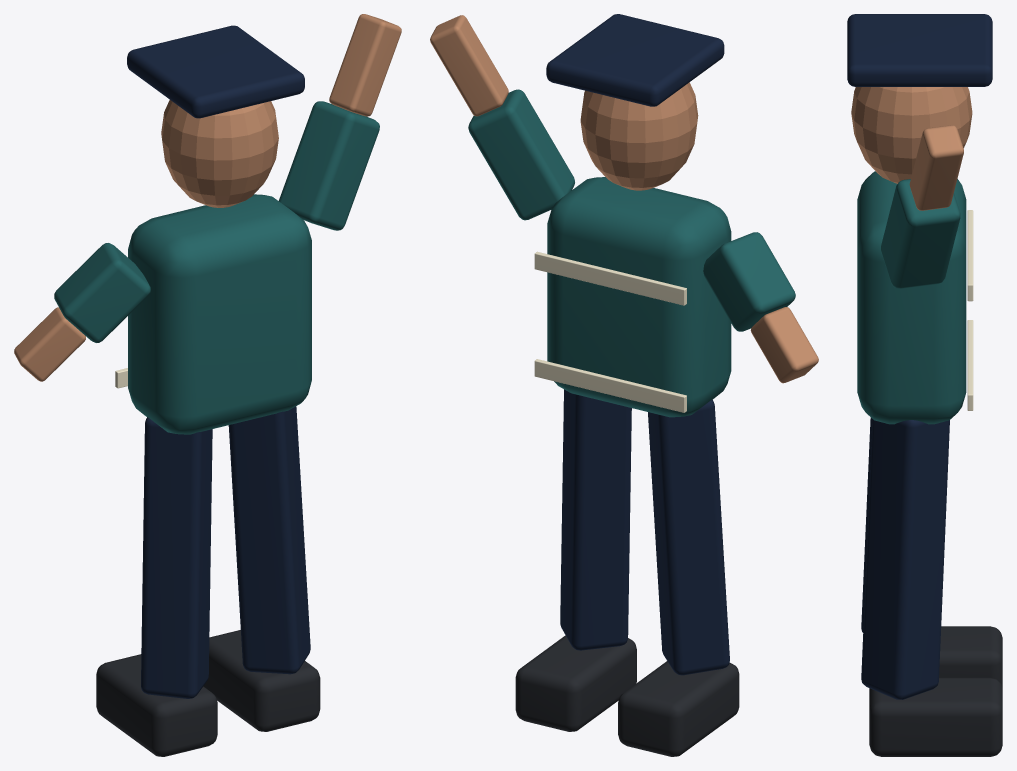
File: spectator.glb
3 views of the same model, side by side, from view 1: azimuth 30°, elevation 25°; view 2: azimuth 150°, elevation 25°; view 3: azimuth 270°, elevation 25° (orthographic). The views are drawn at different scales.
Parts seen in each view (by area): view 1: navy, teal, dark, skin, teal.002, teal.001, skin.002, skin.001; view 2: navy, teal, dark, skin, teal.002, teal.001, white, skin.002, skin.001; view 3: navy, teal, dark, skin, teal.002, skin.002, white.
Boxes of the visible parts, left/top/right/bottom form: navy: left=127, top=25, right=310, bottom=698; teal: left=128, top=194, right=311, bottom=434; dark: left=96, top=630, right=320, bottom=756; skin: left=161, top=100, right=278, bottom=207; teal.002: left=279, top=101, right=379, bottom=230; teal.001: left=54, top=243, right=150, bottom=342; skin.002: left=329, top=14, right=401, bottom=116; skin.001: left=14, top=307, right=85, bottom=381; navy: left=546, top=14, right=729, bottom=675; teal: left=547, top=177, right=731, bottom=417; dark: left=515, top=635, right=739, bottom=756; skin: left=580, top=82, right=698, bottom=190; teal.002: left=468, top=89, right=574, bottom=220; teal.001: left=703, top=232, right=795, bottom=331; white: left=534, top=251, right=686, bottom=412; skin.002: left=430, top=15, right=508, bottom=116; skin.001: left=750, top=307, right=818, bottom=383; navy: left=847, top=14, right=992, bottom=699; teal: left=857, top=171, right=966, bottom=424; dark: left=869, top=626, right=1002, bottom=756; skin: left=851, top=87, right=972, bottom=183; teal.002: left=881, top=179, right=960, bottom=288; skin.002: left=909, top=125, right=963, bottom=210; white: left=967, top=210, right=973, bottom=410.
Bounding box in the file's own units: 1.12 × 1.86 × 0.385.
